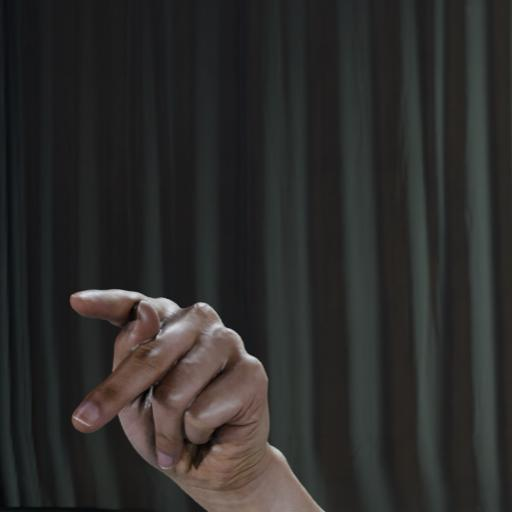P: (53, 283, 318, 512)
